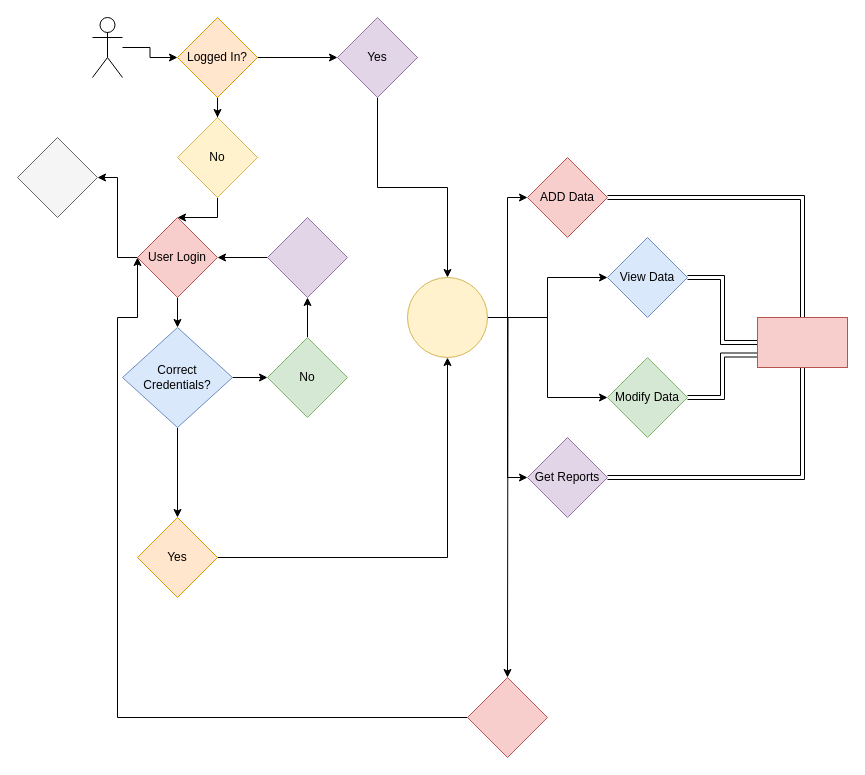
This 865x775 diagram has some shape labels left out. Here are the shapes that lost their labels. From the top down, the centre of each, then its label:
[107,47]: User
[57,177]: About Page
[307,257]: User Registration
[447,317]: Home Page
[802,342]: API
[507,717]: Logout
